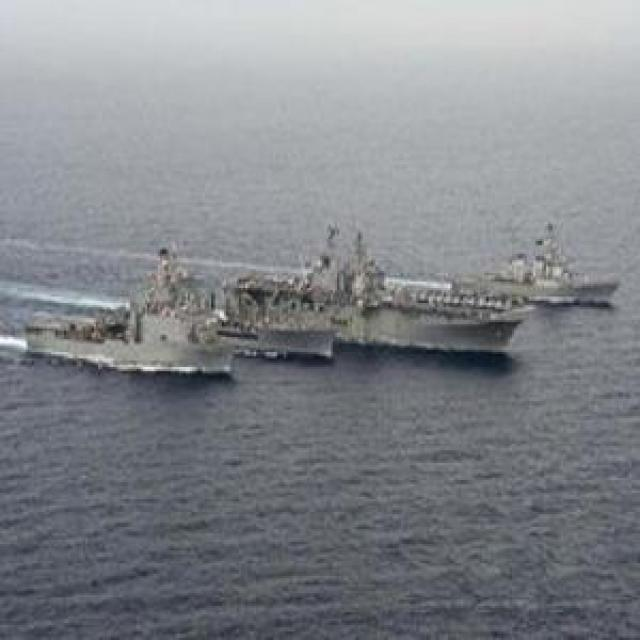navalvessels: (311, 228, 516, 366), (43, 264, 254, 392), (206, 275, 366, 389), (488, 210, 611, 306)
